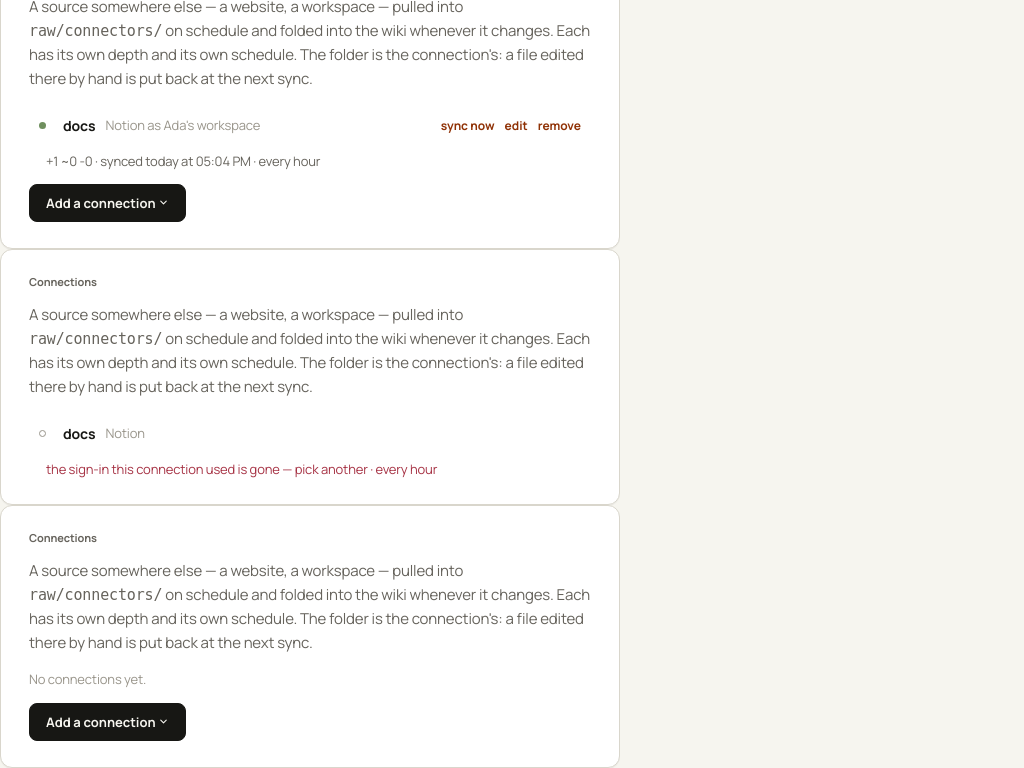
a browsable cell opens a browser and a pick writes the path
(page scrolled)
Click the 2nd button "Add a connection" at (108, 722), box [29,703,186,741]
(page scrolled)
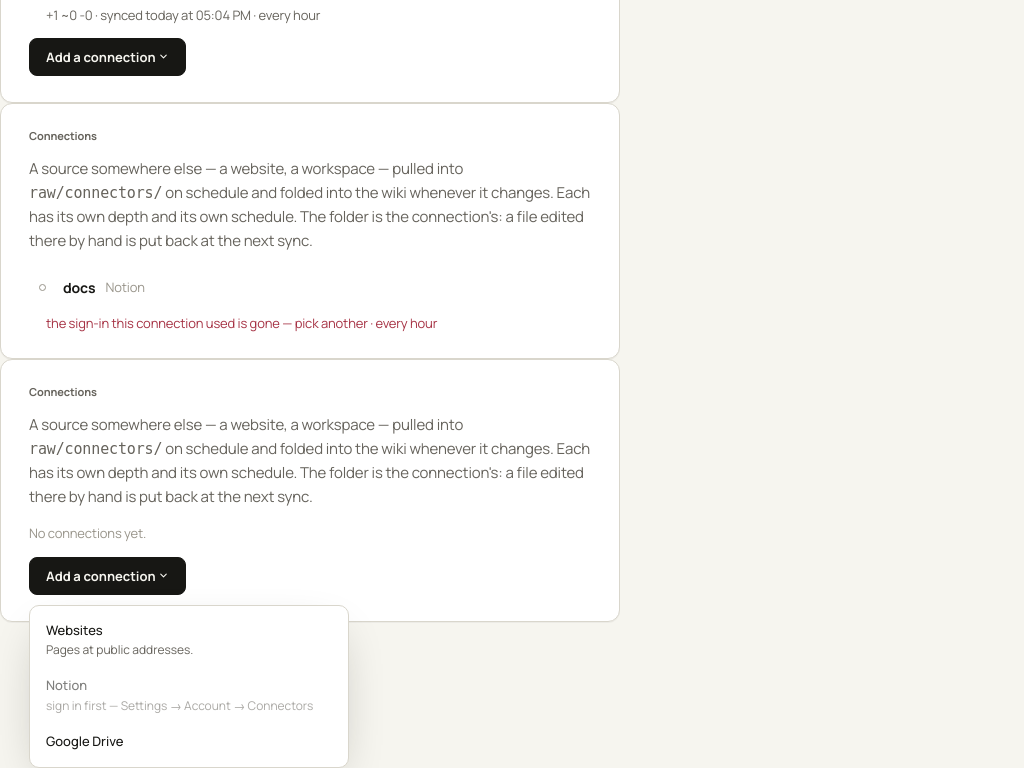
Click the menu item with class "menuitem" showing "Google Drive" at (85, 741), box [36,723,342,761]
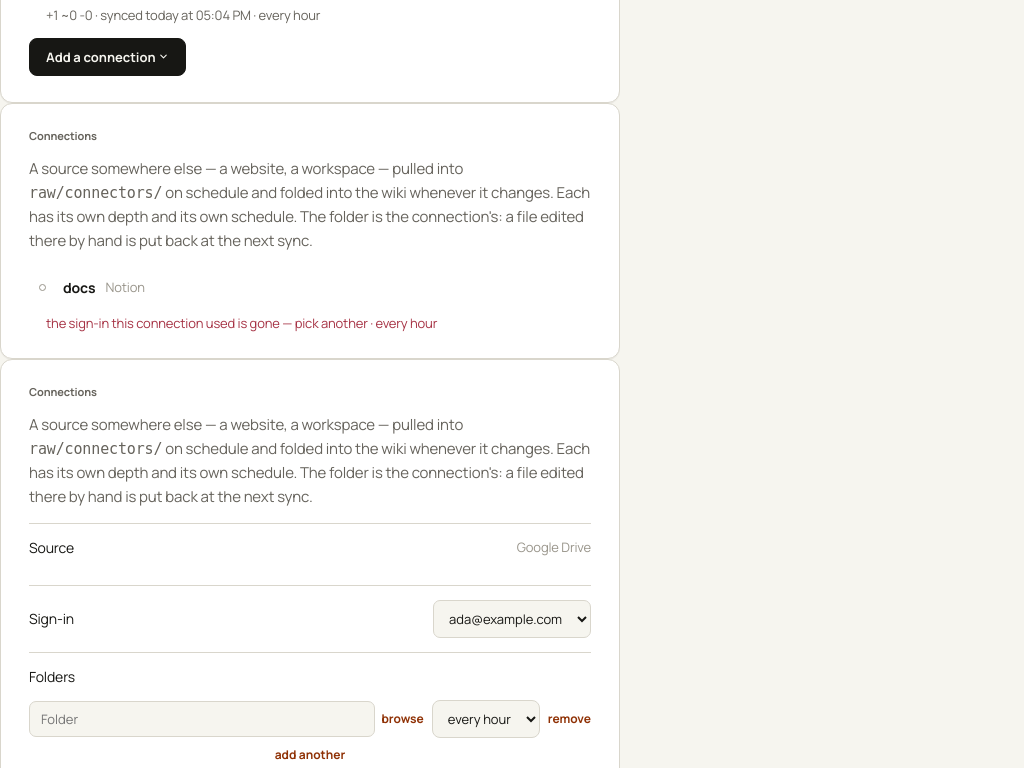
Click the button "browse" at (403, 719), box [381,710,424,727]
(page scrolled)
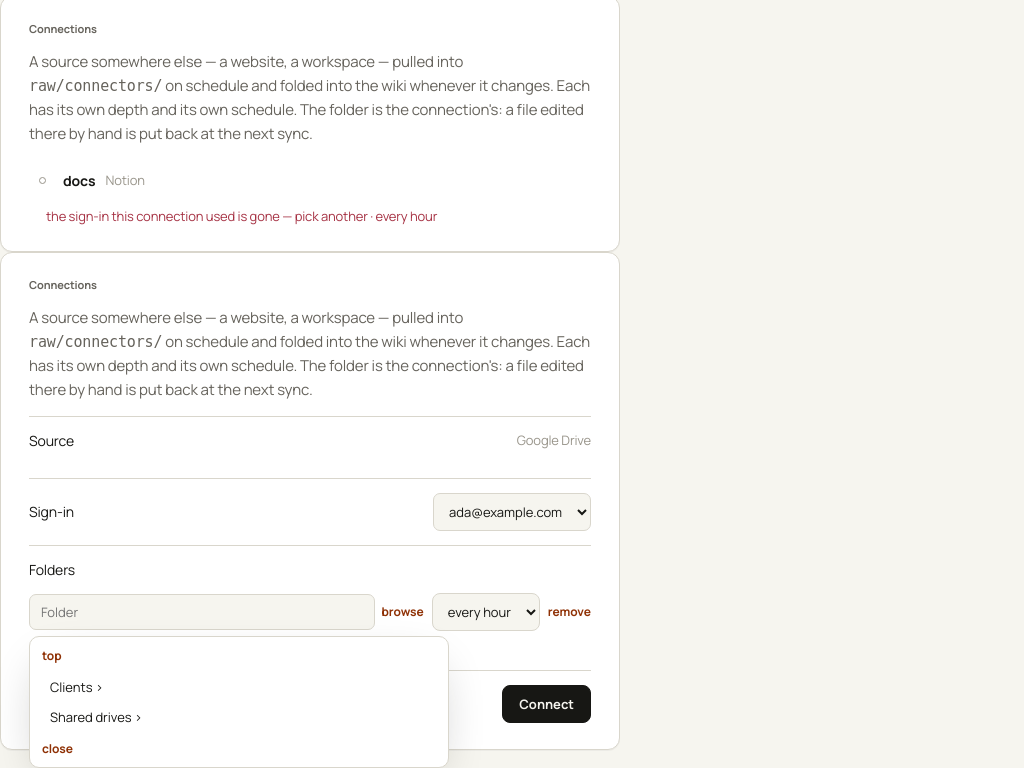
Expected: the text "Shared drives" is shown, [42,702,436,732]
Click the button with class "choice" showing "Clients ›" at (71, 687), box [42,672,436,702]
(page scrolled)
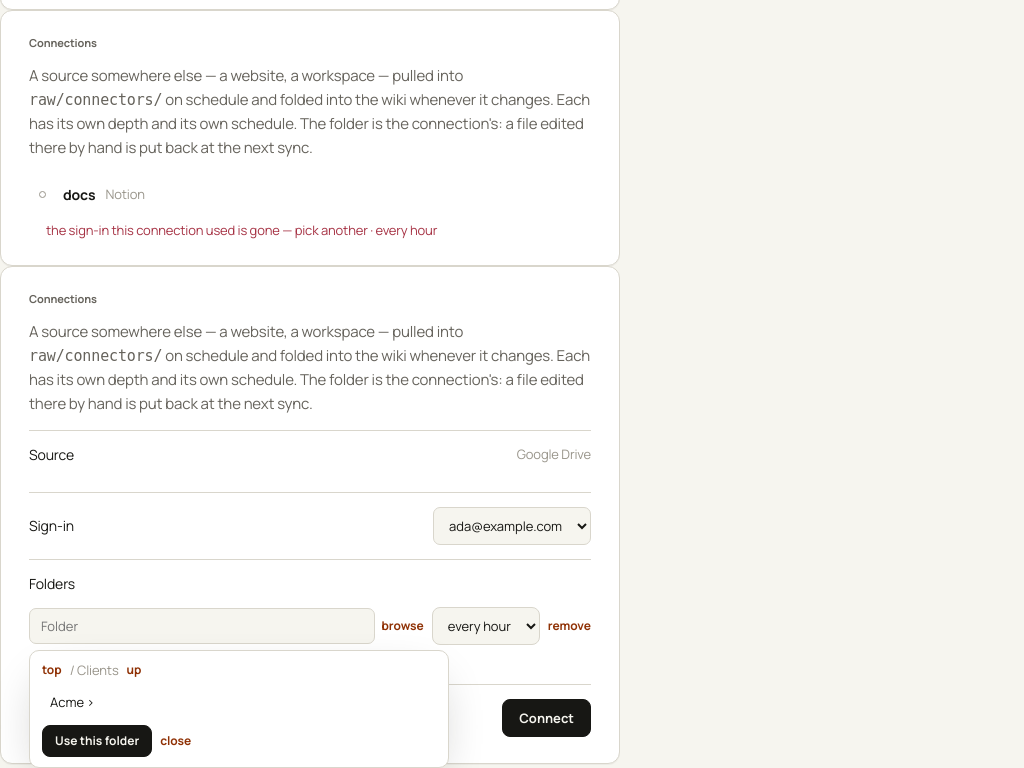
Expected: the text "/ Clients" is shown, [70,661,119,679]
Click the button with class "choice" at (67, 702), box [42,687,436,717]
(page scrolled)
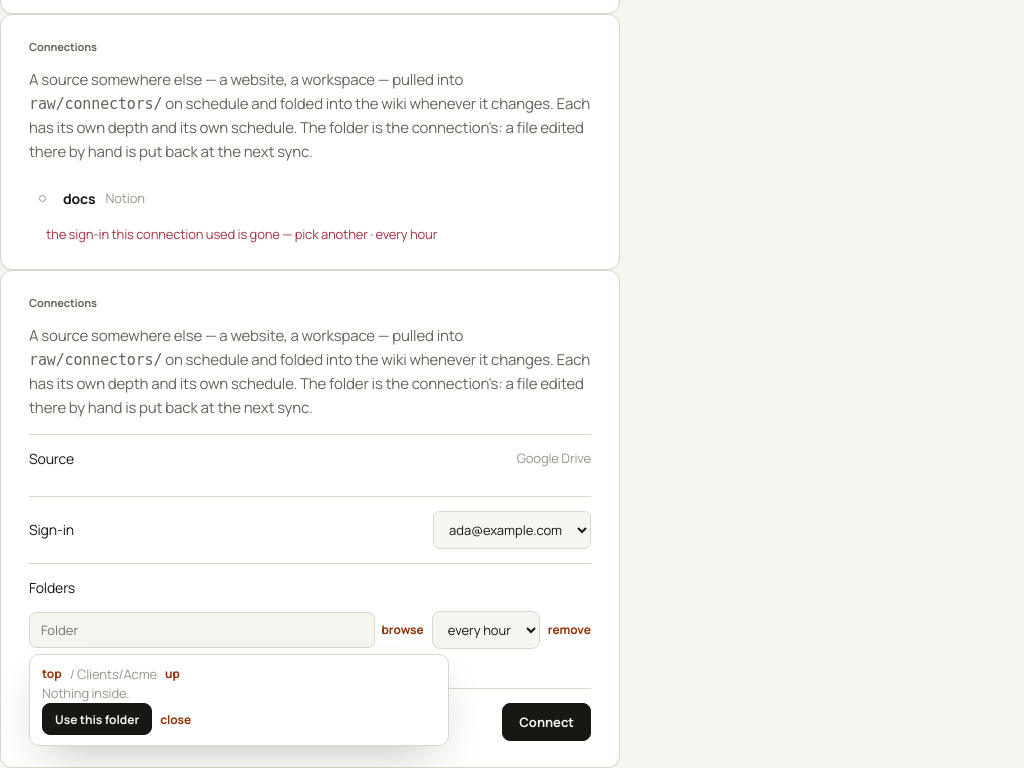
Expected: the text "Nothing inside" is shown, [42,684,129,702]
Click the button with aria-label "Use Clients/Acme" at (97, 719), box [42,703,152,735]
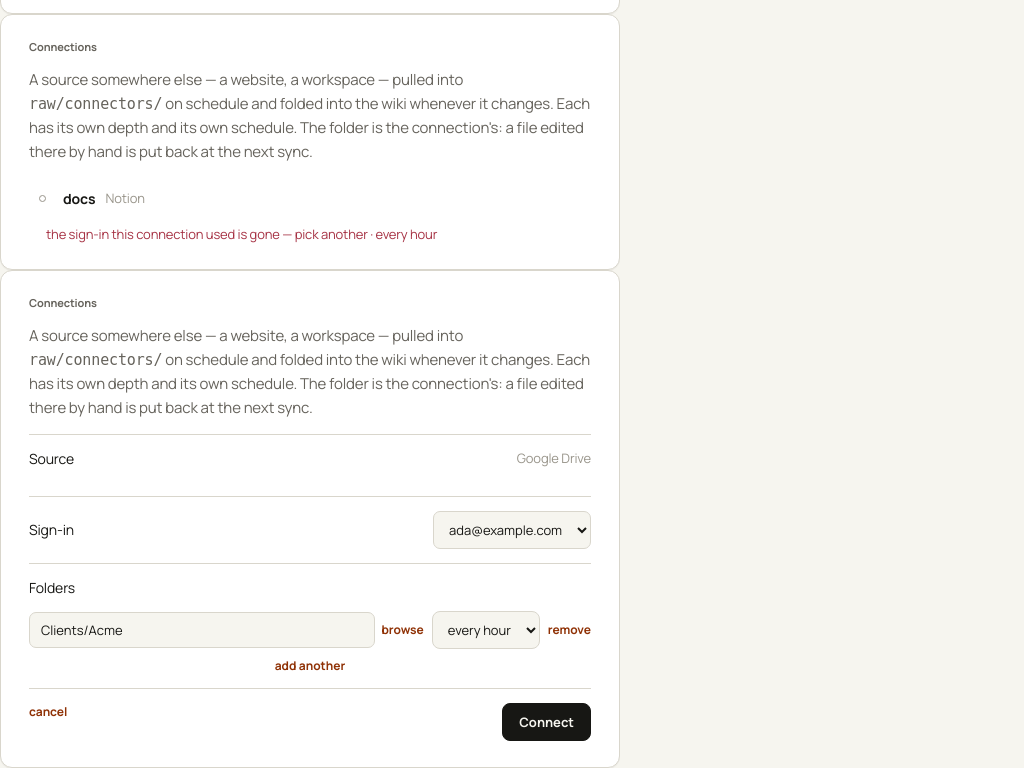
Expected: the dialog with class "browser" is gone
